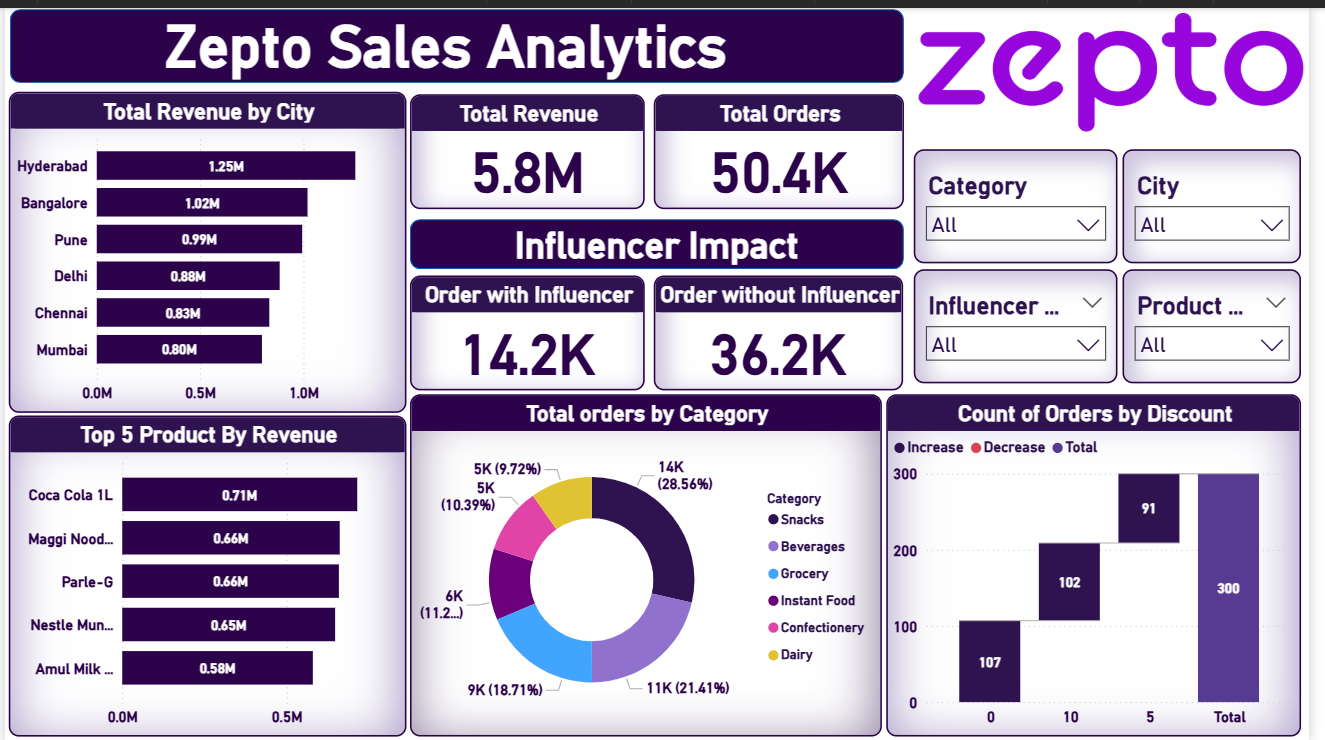

The page's visual inventory and layout, read from the dashboard file:
{"tool":"powerbi","page":{"name":"Page 1","canvas":[1280,720],"ordinal":0},"visuals":[{"type":"shape","box":[4.9,1.2,877.3,72.4],"z":0},{"type":"image","box":[892,0,387.7,128.8],"z":1000},{"type":"card","title":"Total Revenue","fields":{"Values":["DAX Section.Total Revenue"]},"box":[397.5,84.7,230.7,112.9],"z":2000},{"type":"card","title":"Total Orders","fields":{"Values":["DAX Section.Total orders"]},"box":[636.8,84.7,245.4,112.9],"z":3000},{"type":"card","title":"Order with Influencer","fields":{"Values":["DAX Section.on campaign"]},"box":[397.5,263.1,230.7,112.9],"z":4000},{"type":"card","title":"Order without Influencer","fields":{"Values":["DAX Section.Without campaign"]},"box":[636.8,263.1,245,112.9],"z":5000},{"type":"barChart","fields":{"Category":["zepto_sales_dataset.City"],"Y":["DAX Section.Total Revenue"]},"box":[3.7,82.2,390.2,315],"z":6000},{"type":"barChart","title":"Top 5 Product By Revenue","fields":{"Y":["DAX Section.Total Revenue"],"Category":["zepto_sales_dataset.Product Name"]},"box":[3.7,400,390.2,315.3],"z":7000},{"type":"donutChart","fields":{"Category":["zepto_sales_dataset.Category"],"Y":["DAX Section.Total orders"]},"box":[397.5,379.1,463,336.2],"z":8000},{"type":"shape","box":[397.5,207.4,484.7,49.1],"z":9000},{"type":"waterfallChart","fields":{"Y":["CountNonNull(zepto_sales_dataset.Orders)"],"Category":["zepto_sales_dataset.Discount"]},"box":[865,379.1,407.4,336.2],"z":10000},{"type":"textbox","title":"Influencer Impact","box":[397.5,207.4,484.7,49.1],"z":11000},{"type":"textbox","title":"Zepto Sales Analytics","box":[0,0,865,73.6],"z":12000},{"type":"slicer","fields":{"Values":["zepto_sales_dataset.Category"]},"box":[892,138.7,200,111.7],"z":13000},{"type":"slicer","fields":{"Values":["zepto_sales_dataset.Influencer Active"]},"box":[892,256.4,200,111.7],"z":14000},{"type":"slicer","fields":{"Values":["zepto_sales_dataset.City"]},"box":[1096.9,138.7,175.5,111.7],"z":15000},{"type":"slicer","fields":{"Values":["zepto_sales_dataset.Product Name"]},"box":[1096.9,256.4,175.5,111.7],"z":16000}]}

Visuals, with their boxes in screenshot pixels (x1, y1, x2, y2), scaled from the page's 1280x720 canvas onto the 1325x740 screenshot:
shape: [5,1,913,76]
image: [923,0,1324,132]
"Total Revenue" card: [411,87,650,203]
"Total Orders" card: [659,87,913,203]
"Order with Influencer" card: [411,270,650,386]
"Order without Influencer" card: [659,270,913,386]
barChart - zepto_sales_dataset.City x DAX Section.Total Revenue: [4,84,408,408]
"Top 5 Product By Revenue" barChart: [4,411,408,735]
donutChart - zepto_sales_dataset.Category x DAX Section.Total orders: [411,390,891,735]
shape: [411,213,913,264]
waterfallChart - CountNonNull(zepto_sales_dataset.Orders) x zepto_sales_dataset.Discount: [895,390,1317,735]
"Influencer Impact" textbox: [411,213,913,264]
"Zepto Sales Analytics" textbox: [0,0,895,76]
slicer - zepto_sales_dataset.Category: [923,143,1130,257]
slicer - zepto_sales_dataset.Influencer Active: [923,264,1130,378]
slicer - zepto_sales_dataset.City: [1135,143,1317,257]
slicer - zepto_sales_dataset.Product Name: [1135,264,1317,378]
